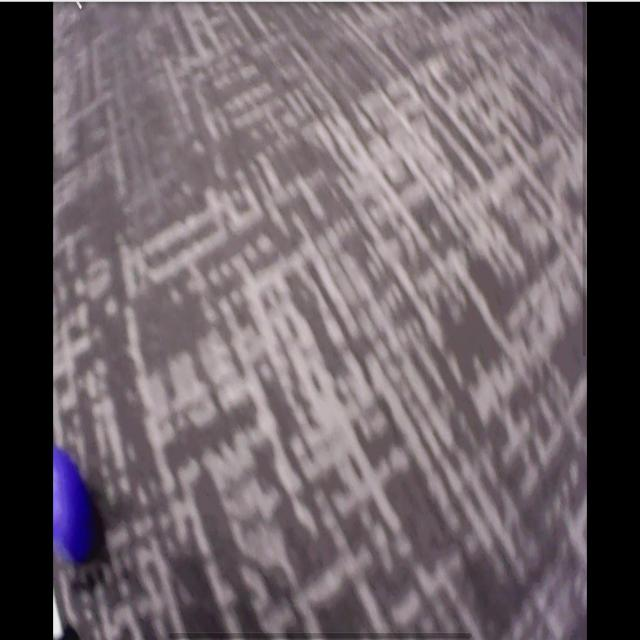ball: (54, 452, 96, 561)
